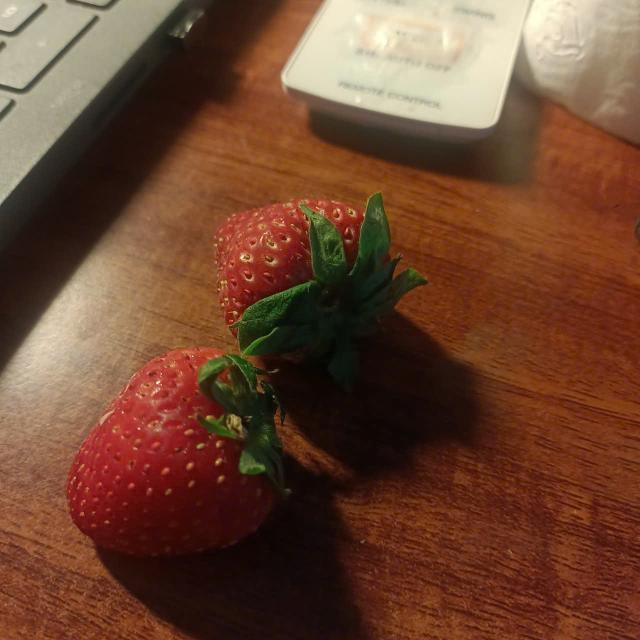DauTay: (51, 345, 274, 555), (204, 194, 396, 364)
